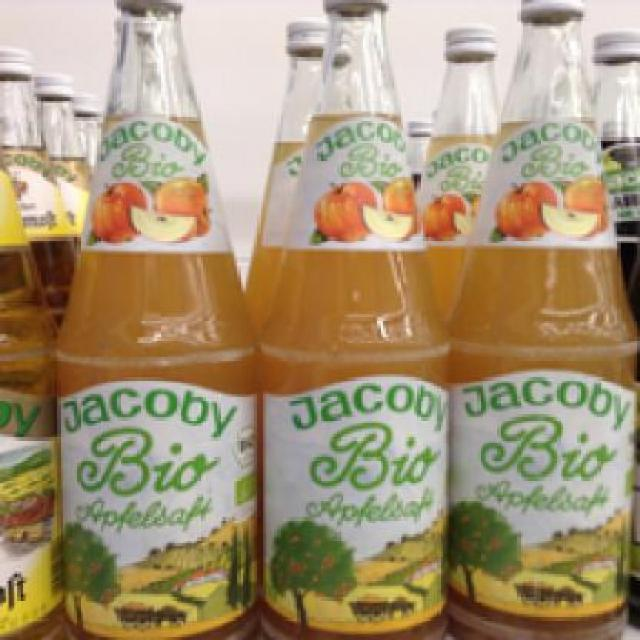Juice: (46, 0, 254, 637), (253, 0, 450, 637), (444, 0, 638, 635)
